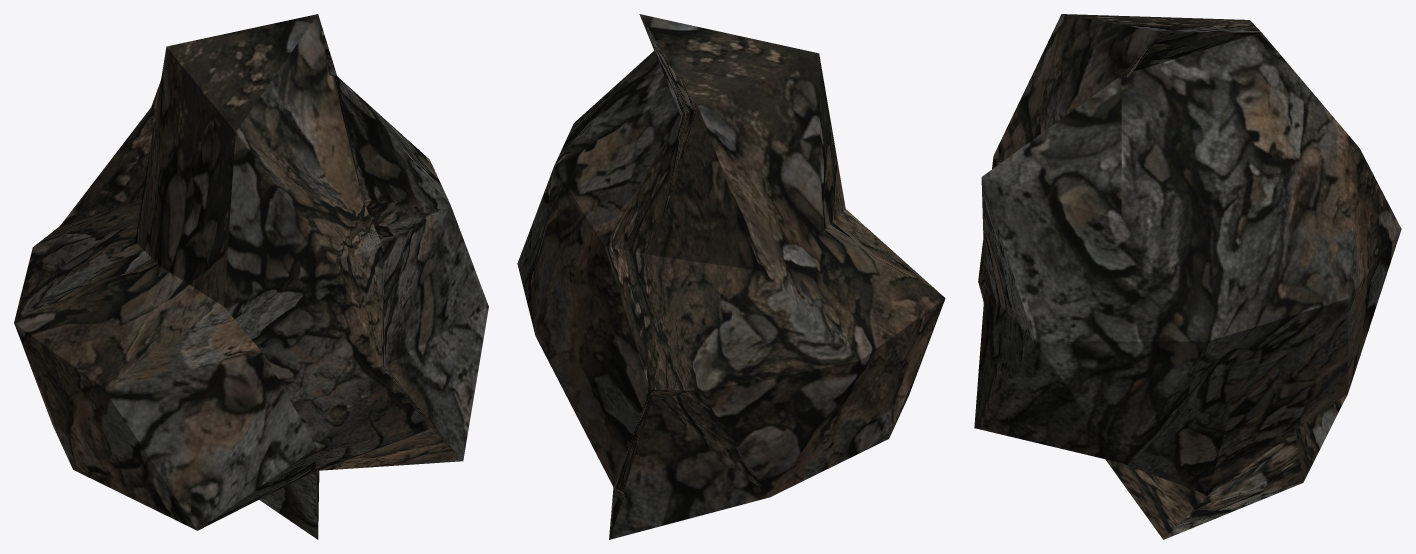
The model's file is escombro2.obj.
The picture shows the model from 3 angles, left to right: view 1: azimuth 30°, elevation 25°; view 2: azimuth 150°, elevation 25°; view 3: azimuth 270°, elevation 25°; orthographic projection. The views are drawn at different scales.
Parts seen in each view (by area): view 1: Icosphere; view 2: Icosphere; view 3: Icosphere.
Part boxes in pixels (x1,y1,x2,y2): Icosphere: (14, 14, 488, 539); Icosphere: (517, 14, 945, 539); Icosphere: (974, 14, 1401, 539).
Bounding box in the file's own units: 1.48 × 2 × 1.53.
Materials: 1 (1 with a texture image).
